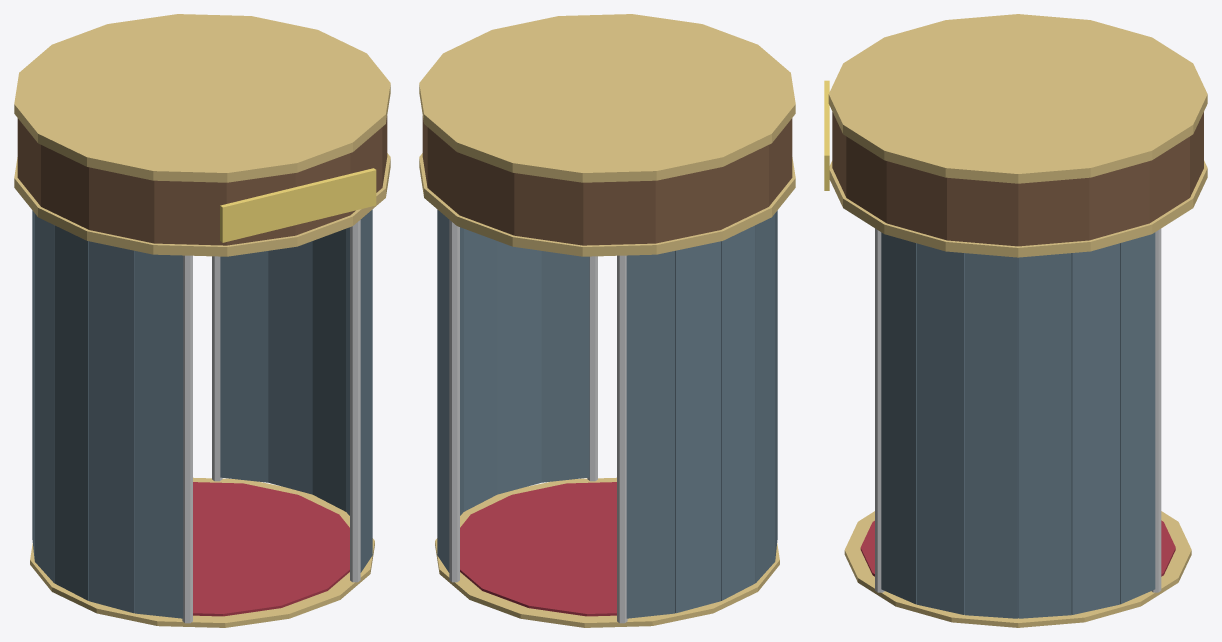
File: HJ_PuertaGiratoria.fbx
3 renders of one model, left to right at view 1: azimuth 30°, elevation 25°; view 2: azimuth 150°, elevation 25°; view 3: azimuth 270°, elevation 25°, orthographic.
Visible parts, largest first — view 1: HJ_PuertaGiratoria; view 2: HJ_PuertaGiratoria; view 3: HJ_PuertaGiratoria.
Part boxes in pixels (x1,y1,x2,y2): HJ_PuertaGiratoria: (14,14,390,627); HJ_PuertaGiratoria: (419,14,795,627); HJ_PuertaGiratoria: (824,14,1207,627).
Bounding box in the file's own units: 2.14 × 2.87 × 2.17.
